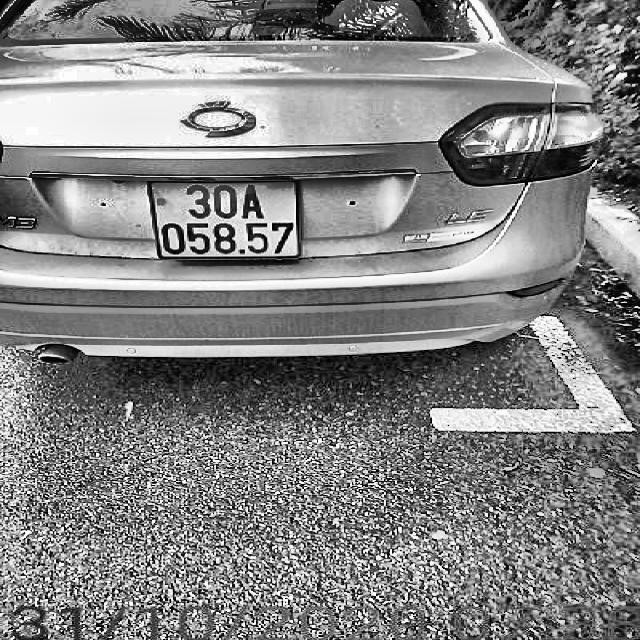plate: (144, 172, 310, 264)
